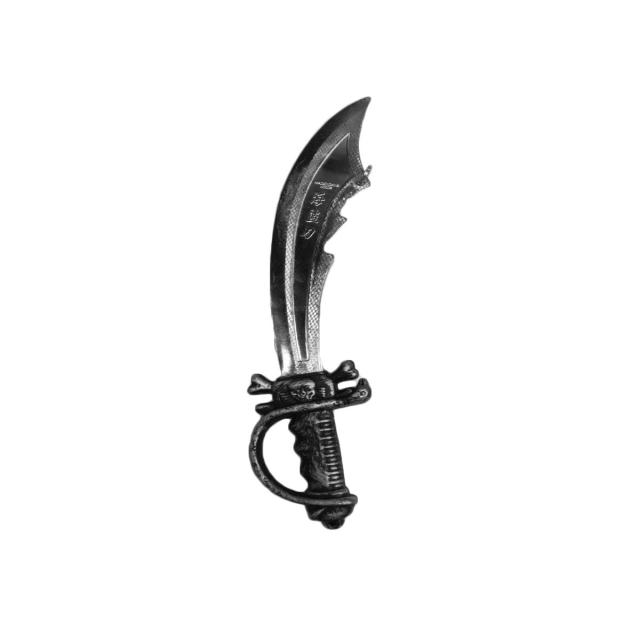Knife: (238, 91, 394, 574)
